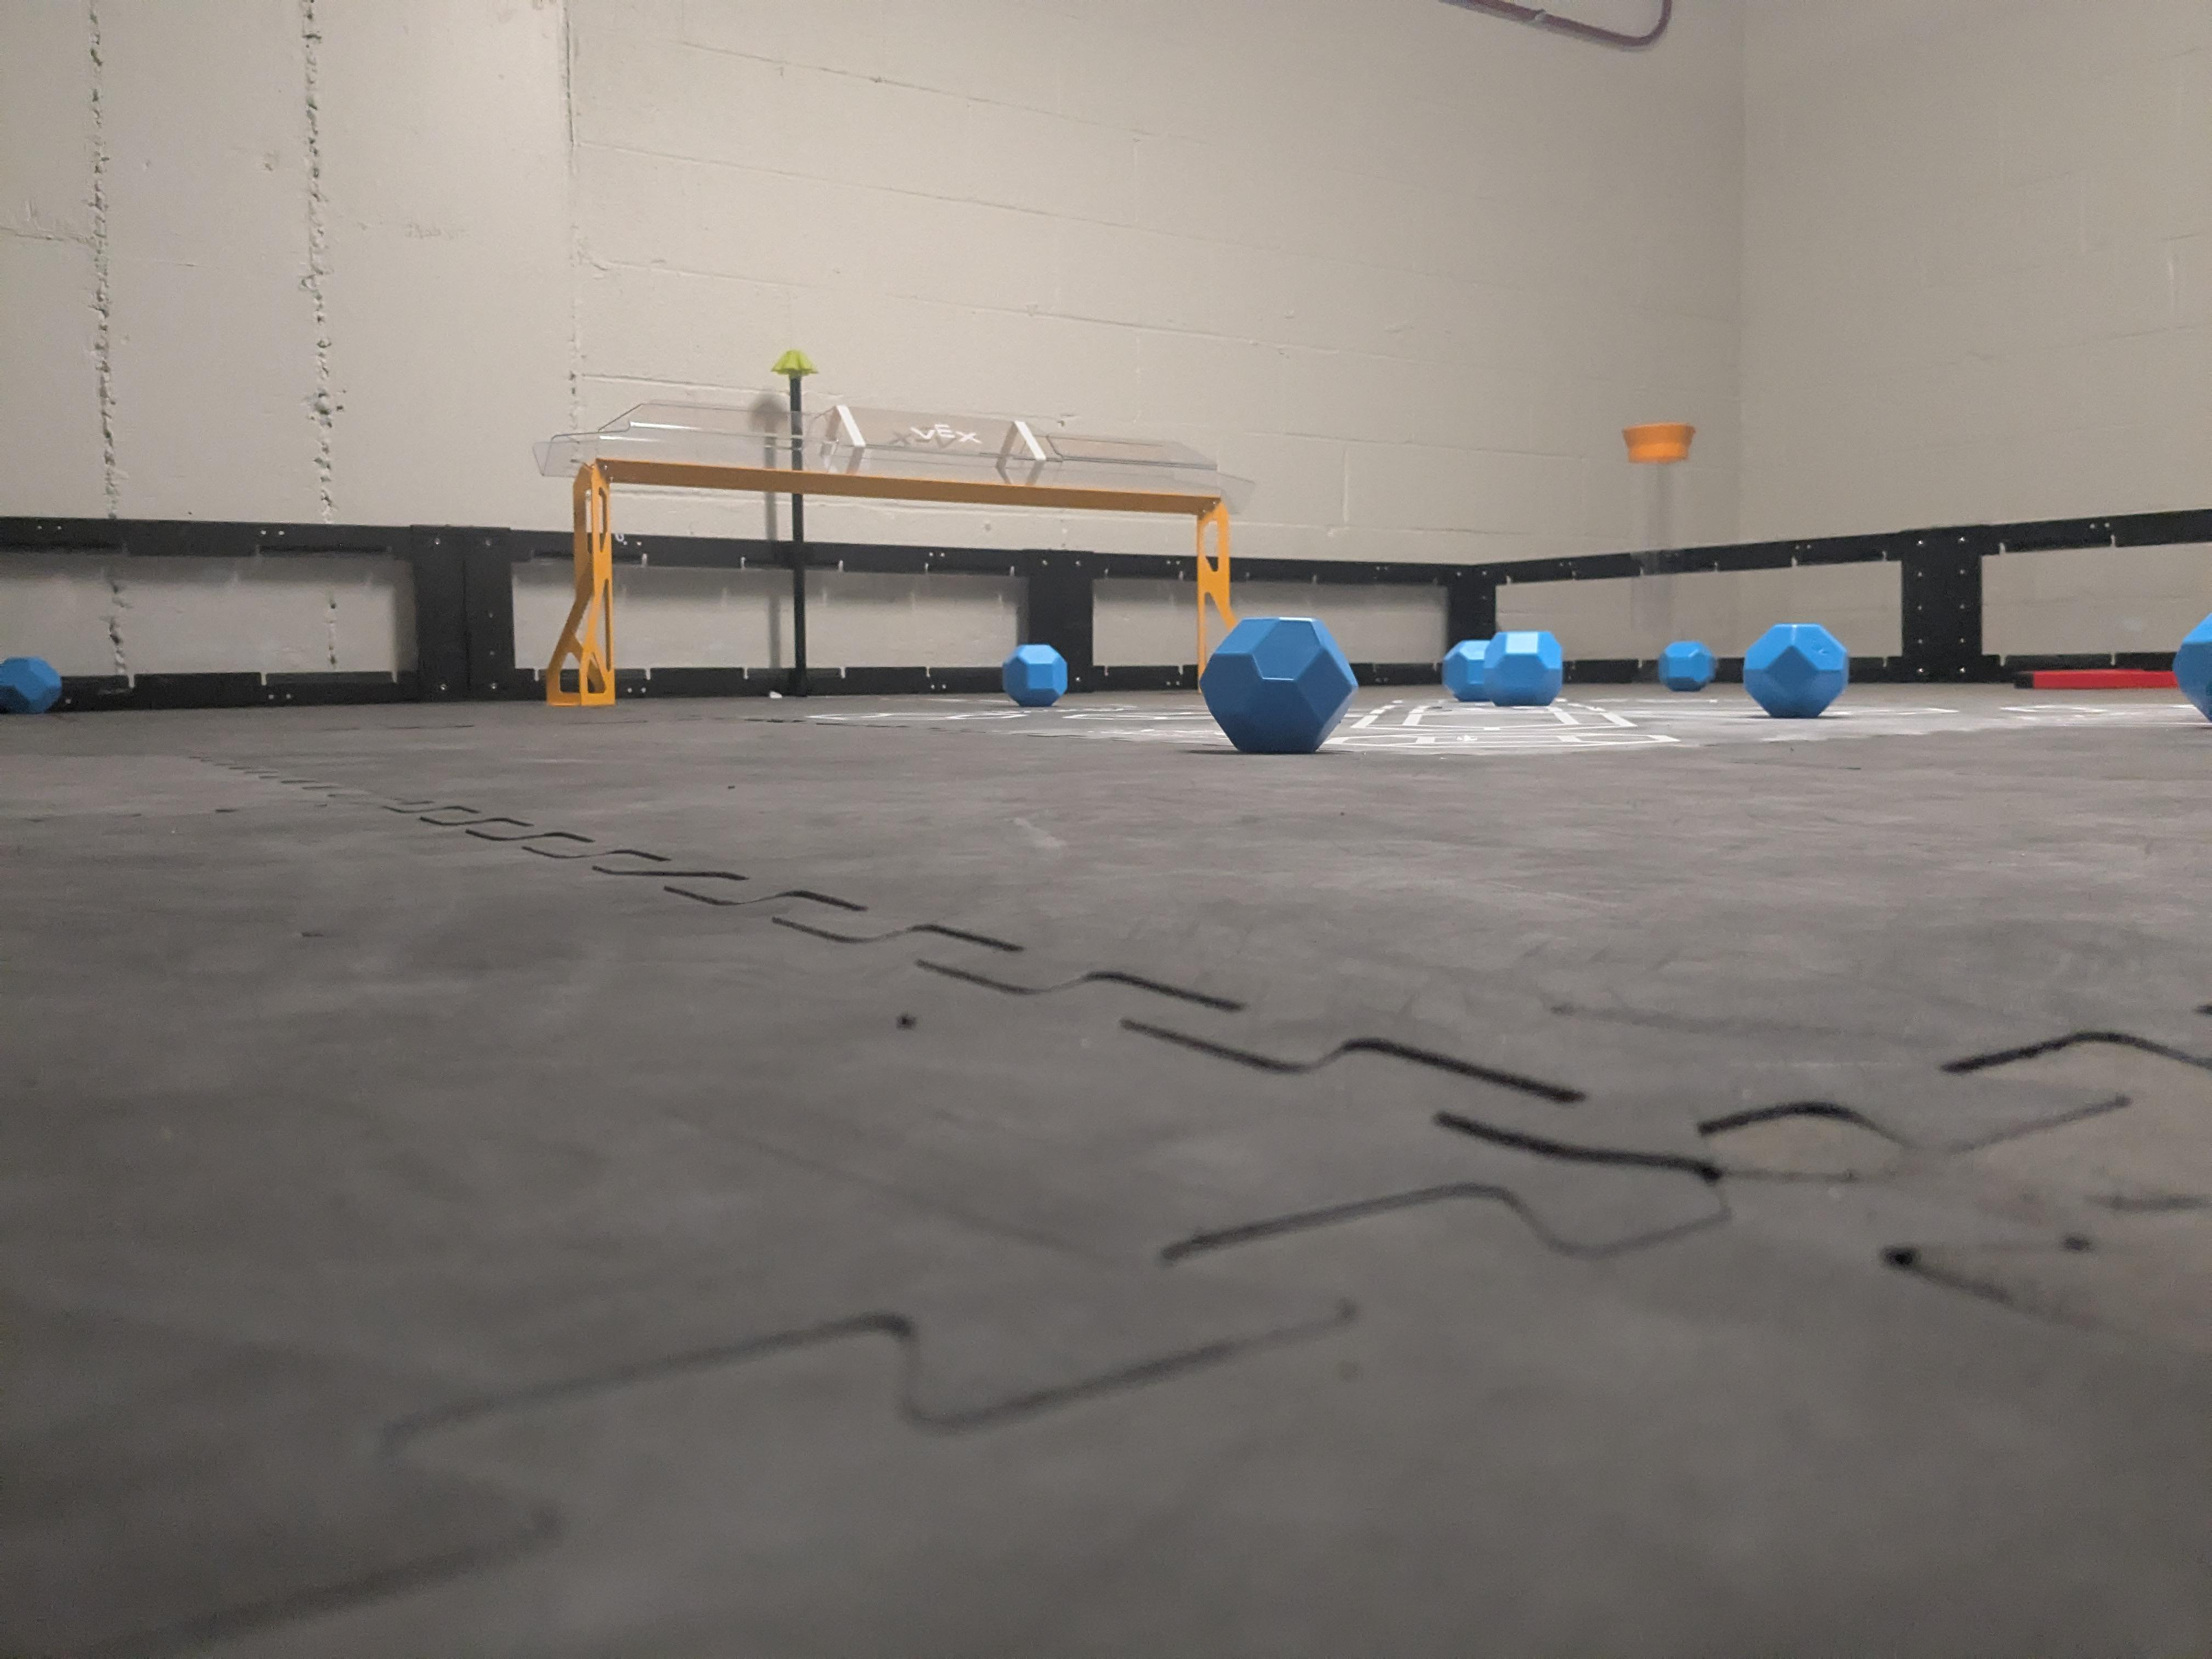Vex-Pieces-BLUE: (1198, 617, 1353, 749), (1745, 624, 1848, 713), (1440, 629, 1561, 702), (1001, 647, 1071, 702), (3, 659, 64, 713), (1656, 641, 1716, 692)
